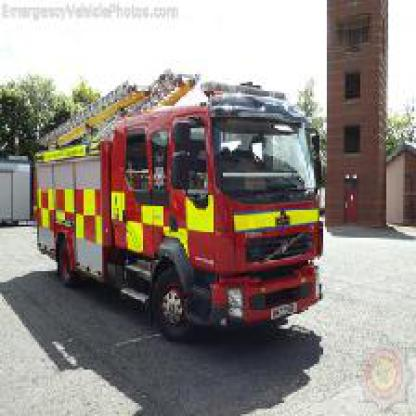emergency: (28, 69, 332, 344)
